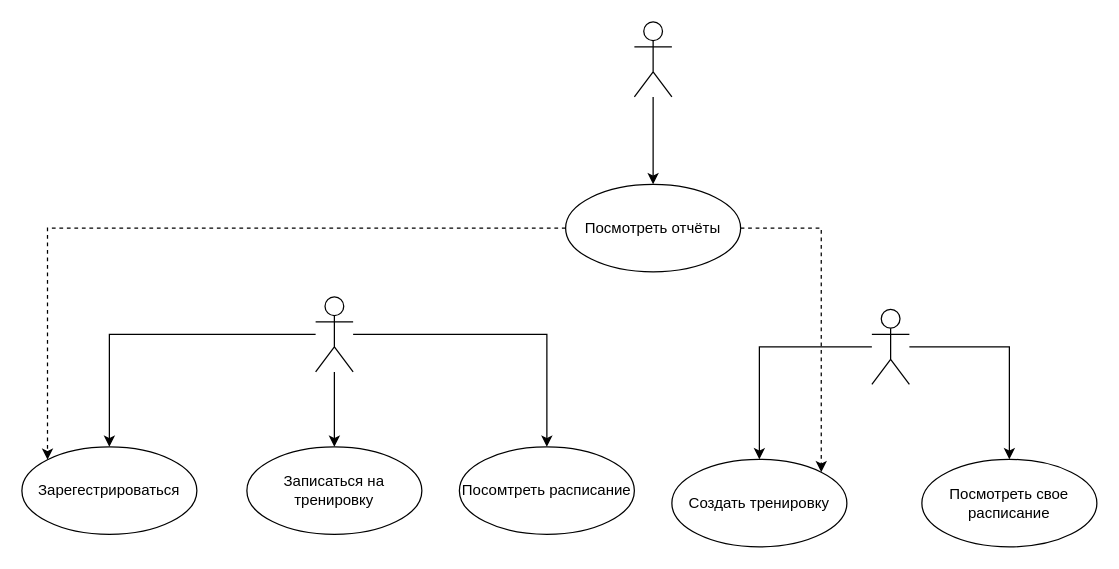
Image size: 1119x569. Some labels were removed from this diagram. Each missing label, with the centre of its shape:
"Администратор" belongs at [652,59].
"Клиент" belongs at [333,334].
"Тренер" belongs at [890,346].
